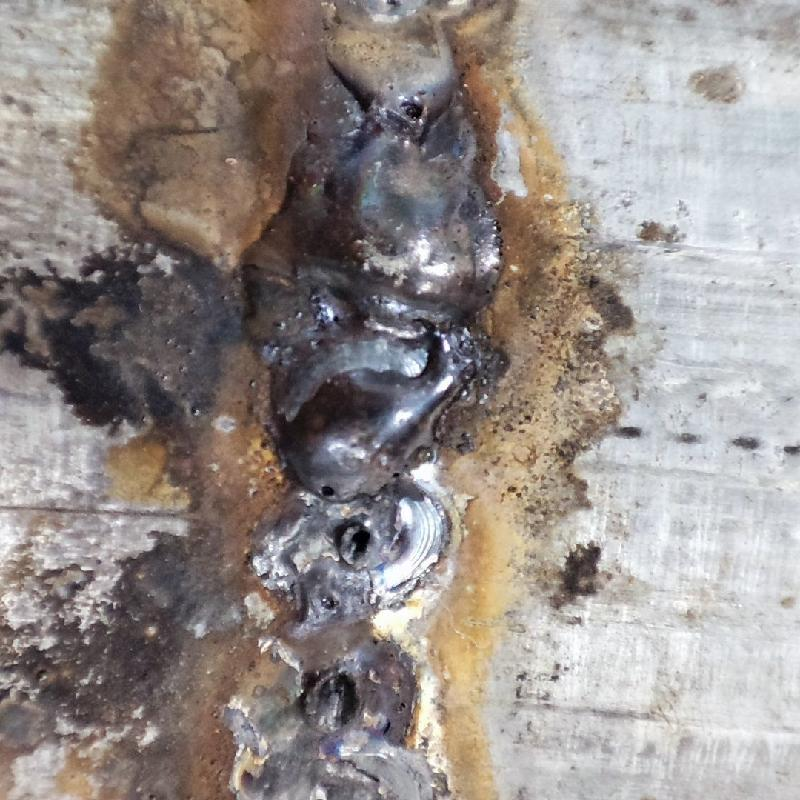Not_fully_soldered: (238, 480, 448, 799), (310, 0, 469, 139)
Surface_pores: (375, 65, 439, 130), (302, 463, 356, 519), (334, 507, 381, 571)
Weld: (258, 138, 500, 500)
